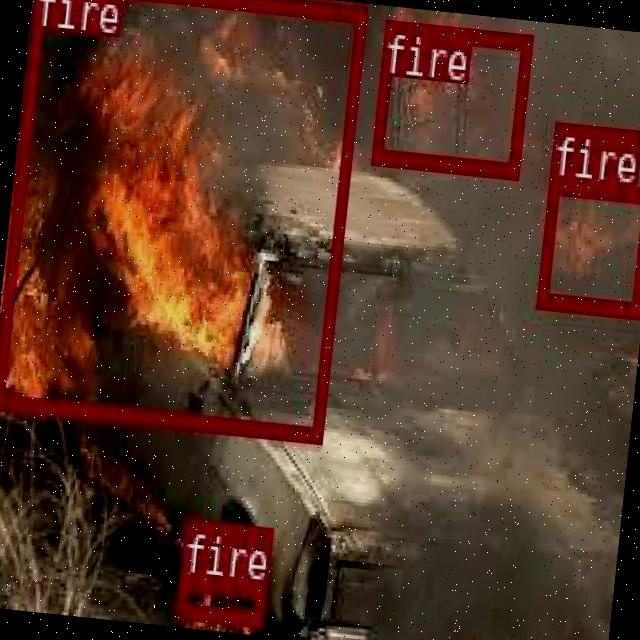fire: (0, 0, 365, 439), (369, 16, 531, 176), (534, 174, 640, 313), (175, 574, 264, 624)
